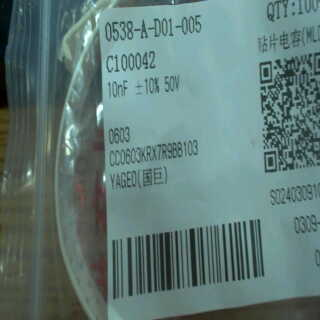10nF: (103, 77, 133, 102)
